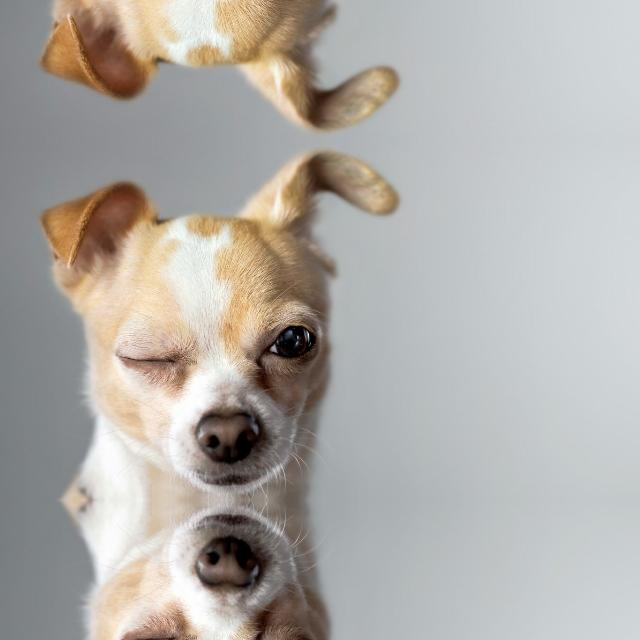dog: (9, 144, 418, 496), (9, 502, 418, 640), (9, 0, 418, 136)
